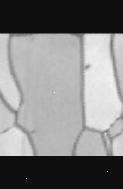good_void: (83, 62, 90, 69)
